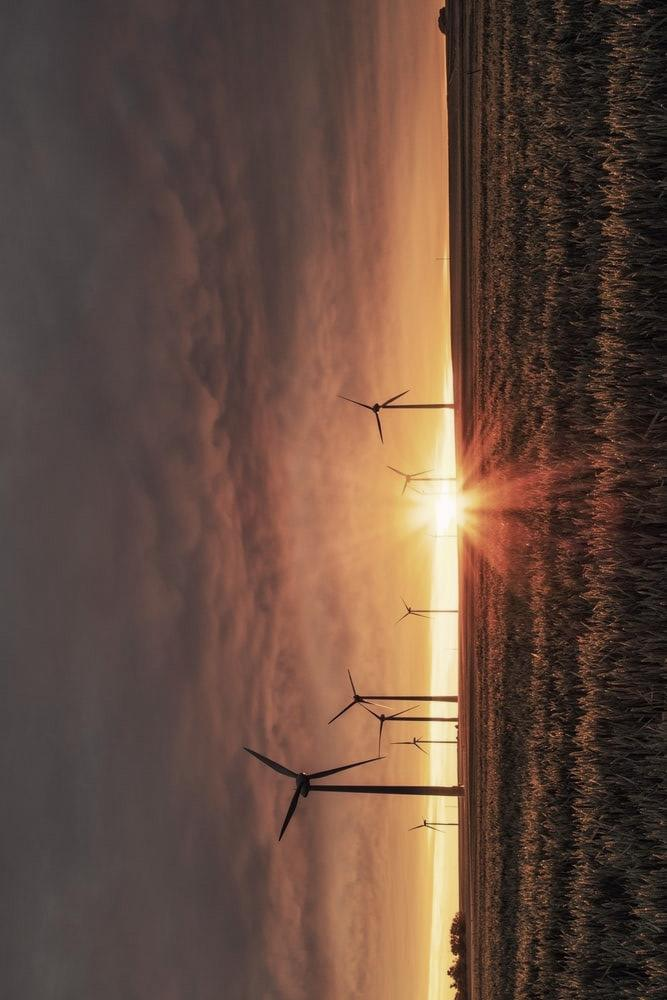working: (191, 744, 400, 842)
